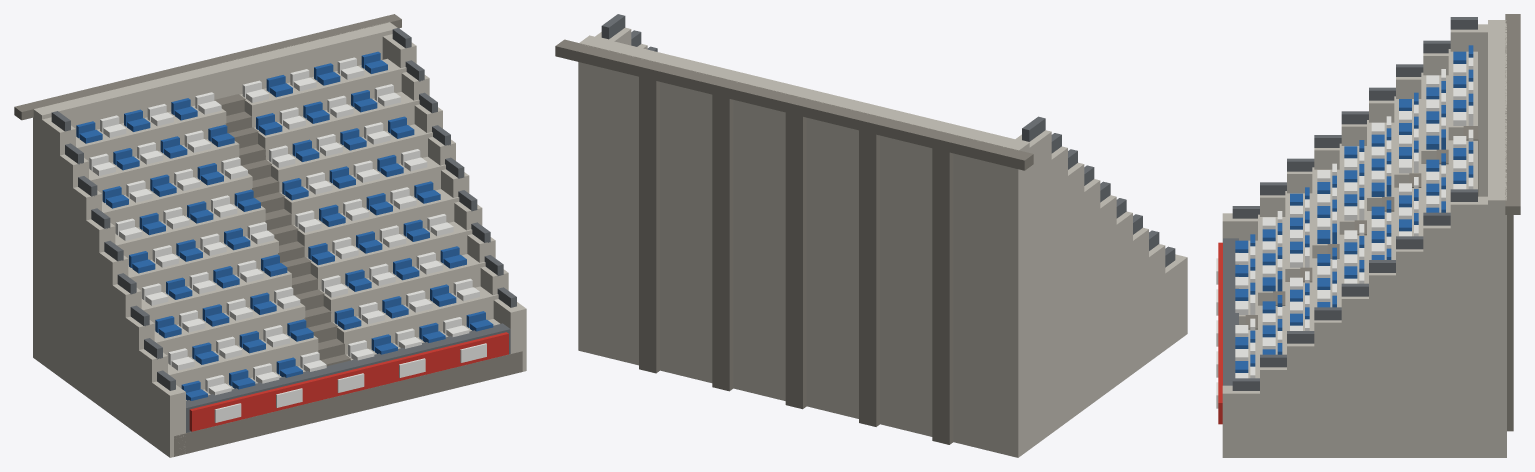
The model's file is grandStand.glb.
3 renders of one model, left to right at view 1: azimuth 30°, elevation 25°; view 2: azimuth 150°, elevation 25°; view 3: azimuth 270°, elevation 25°, orthographic. The views are drawn at different scales.
Visible parts, largest first — view 1: grandStand_concrete, grandStand_white, grandStand_blue, grandStand_concreteDark, grandStand_steel, grandStand_red; view 2: grandStand_concrete, grandStand_concreteDark, grandStand_steel; view 3: grandStand_concrete, grandStand_white, grandStand_blue, grandStand_steel, grandStand_concreteDark, grandStand_red.
Boxes of the visible parts, x1,y1,x2,y2 form: grandStand_concrete: (33, 22, 526, 457); grandStand_white: (89, 57, 486, 422); grandStand_blue: (76, 51, 493, 400); grandStand_concreteDark: (14, 14, 522, 456); grandStand_steel: (51, 28, 516, 432); grandStand_red: (189, 332, 508, 431); grandStand_concrete: (578, 27, 1187, 457); grandStand_concreteDark: (555, 39, 1033, 444); grandStand_steel: (601, 14, 1175, 267); grandStand_concrete: (1222, 20, 1506, 457); grandStand_white: (1216, 57, 1473, 408); grandStand_blue: (1235, 45, 1473, 372); grandStand_steel: (1223, 17, 1477, 390); grandStand_concreteDark: (1245, 14, 1520, 431); grandStand_red: (1218, 242, 1222, 424).
Bounding box in the file's own units: 19.2 × 12.26 × 12.84.
